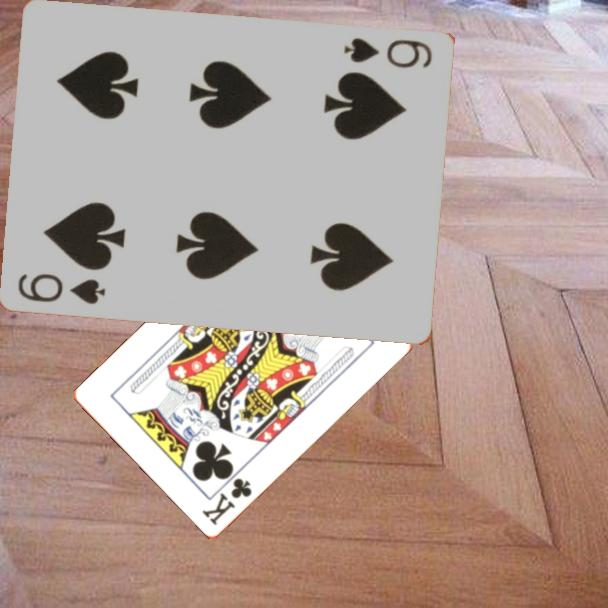c13: (198, 475, 255, 529)
s06: (341, 33, 436, 71), (15, 269, 109, 307)
